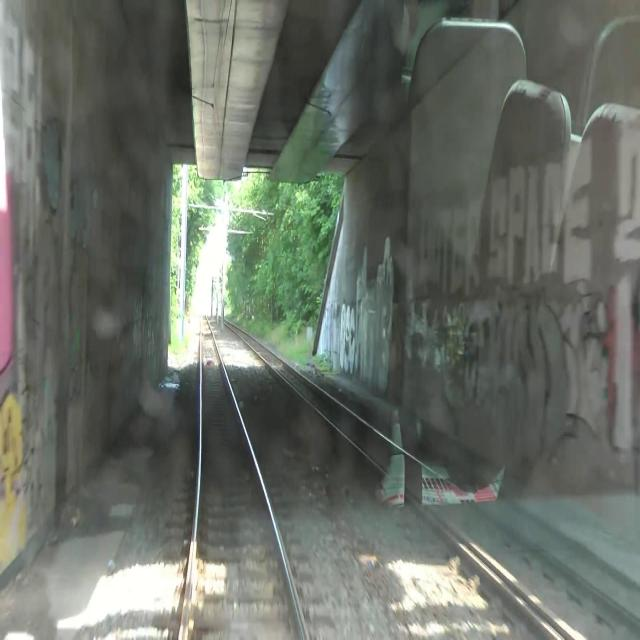rail-track: (226, 322, 640, 639), (184, 313, 305, 639)
